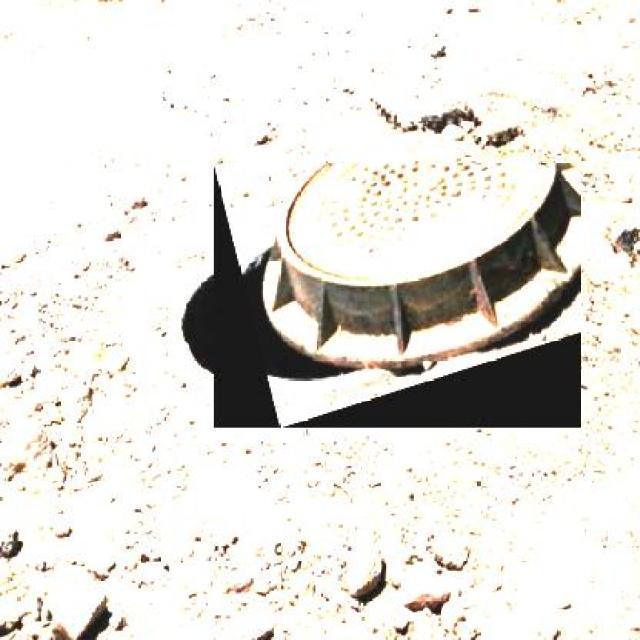Manhole: (214, 163, 580, 428)
